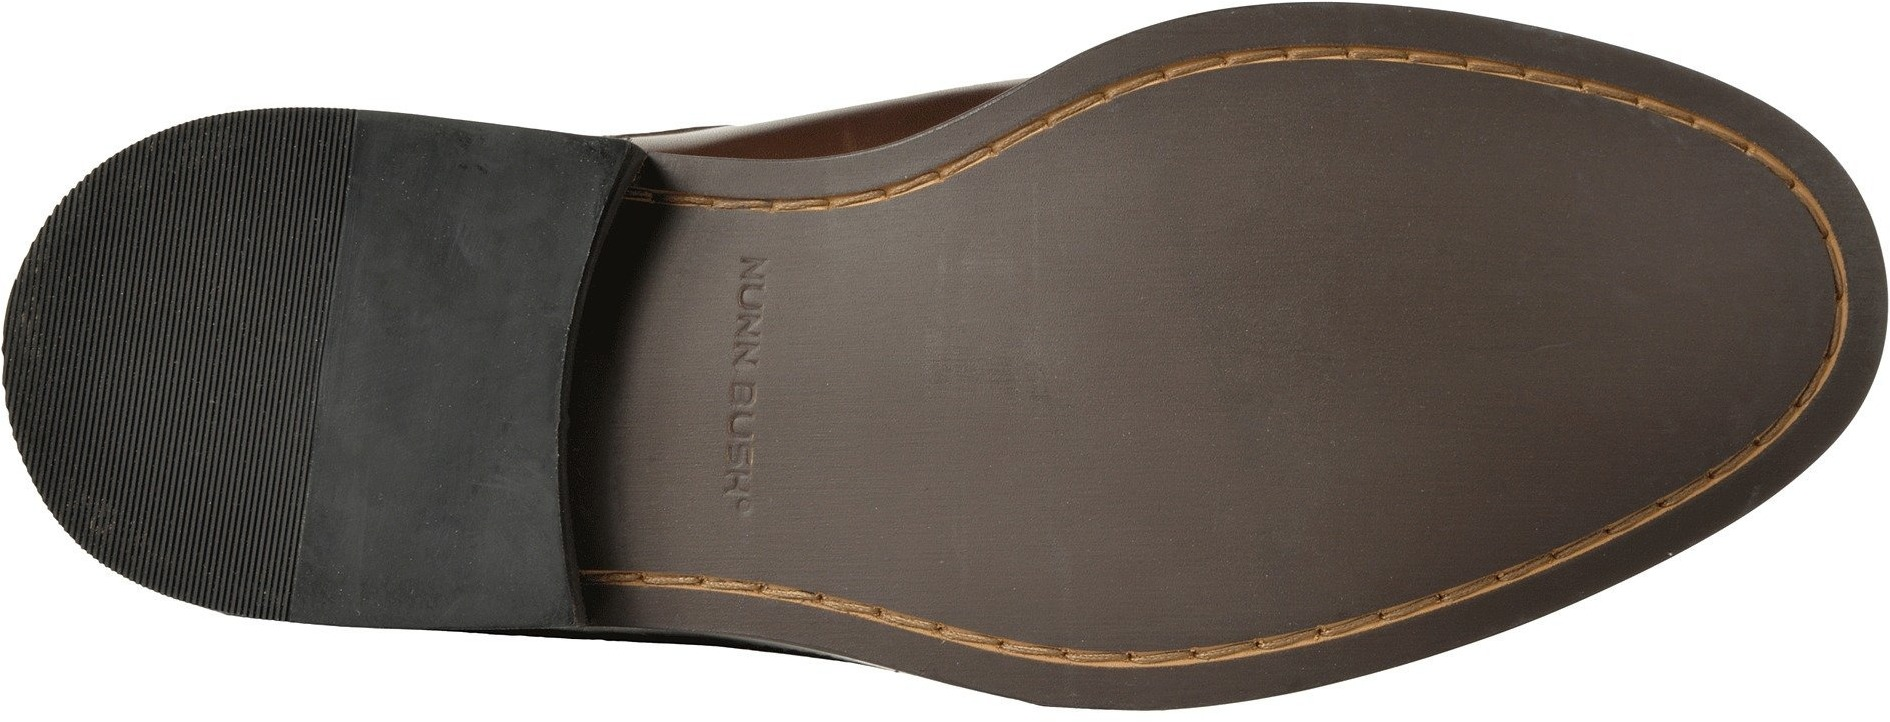other: (1229, 98, 1659, 507), (950, 187, 1225, 460), (45, 246, 310, 485), (327, 416, 551, 606), (364, 162, 562, 351), (1011, 464, 1198, 640), (1665, 231, 1813, 386), (202, 115, 336, 243), (171, 491, 274, 601)
